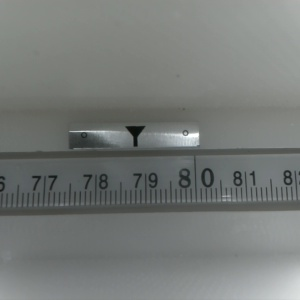0: (200, 168, 214, 187)
1: (249, 170, 255, 186)
6: (0, 175, 5, 192)
7: (47, 175, 58, 191), (30, 175, 41, 191), (132, 173, 142, 188), (82, 175, 92, 189)
8: (177, 169, 190, 188), (231, 170, 242, 187), (98, 174, 108, 189), (282, 170, 292, 185)
9: (147, 172, 157, 188)
finger: (123, 126, 145, 147)
